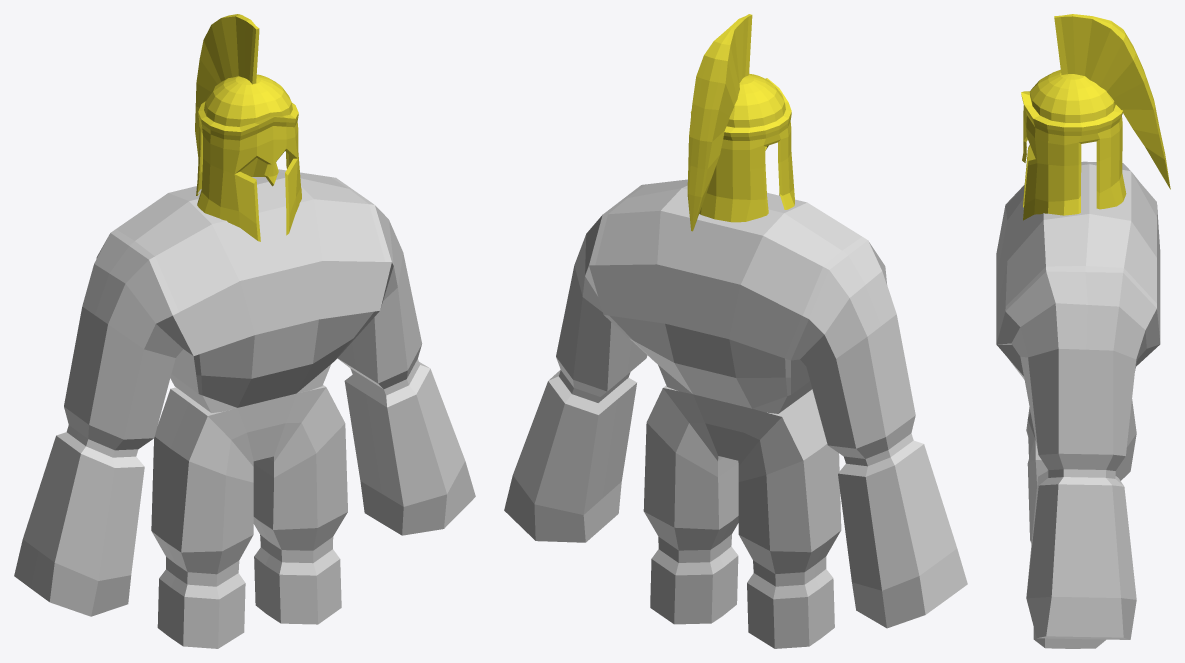
Rendered from carrara_knight.fbx.
3 views of the same model, side by side, from view 1: azimuth 30°, elevation 25°; view 2: azimuth 150°, elevation 25°; view 3: azimuth 270°, elevation 25° (orthographic).
Visible parts, largest first — view 1: carrara_knight; view 2: carrara_knight; view 3: carrara_knight.
Boxes of the visible parts, x1,y1,x2,y2 form: carrara_knight: [14, 14, 475, 648]; carrara_knight: [504, 14, 967, 648]; carrara_knight: [996, 14, 1170, 648].
Size of the model in its own units: 705 by 953 by 250.
